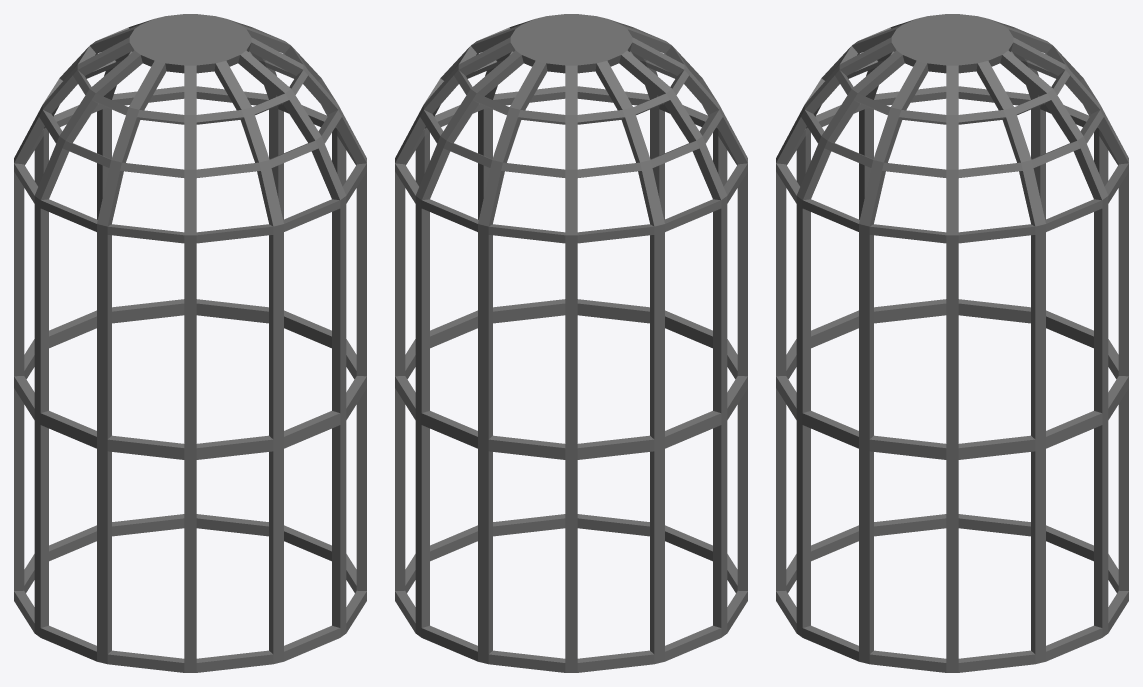
The model's file is LPCP_Cage16.fbx.
The picture shows the model from 3 angles, left to right: view 1: azimuth 30°, elevation 25°; view 2: azimuth 150°, elevation 25°; view 3: azimuth 270°, elevation 25°; orthographic projection.
Parts seen in each view (by area): view 1: LPCP_Cage16; view 2: LPCP_Cage16; view 3: LPCP_Cage16.
Part boxes in pixels (x1,y1,x2,y2): LPCP_Cage16: (14, 14, 366, 672); LPCP_Cage16: (395, 14, 747, 672); LPCP_Cage16: (776, 14, 1128, 672).
Bounding box in the file's own units: 1.98 × 3.46 × 1.98.
